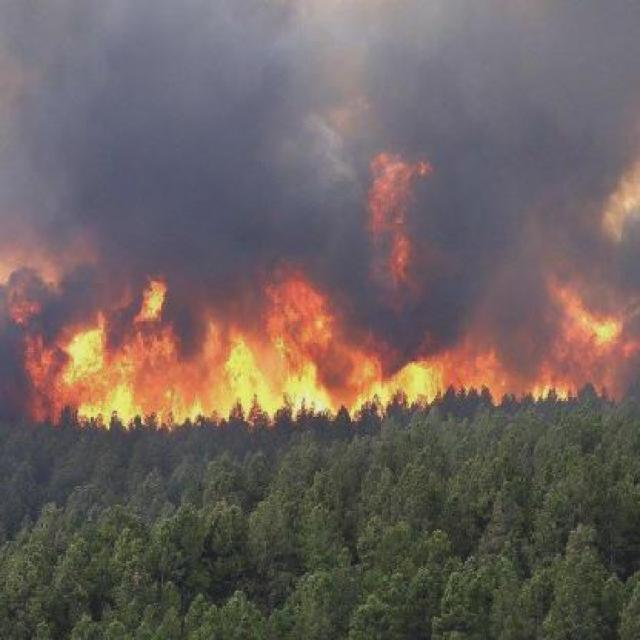Fire: (11, 271, 640, 431), (366, 141, 422, 277), (598, 160, 638, 234)
Smoke: (7, 2, 640, 315)
